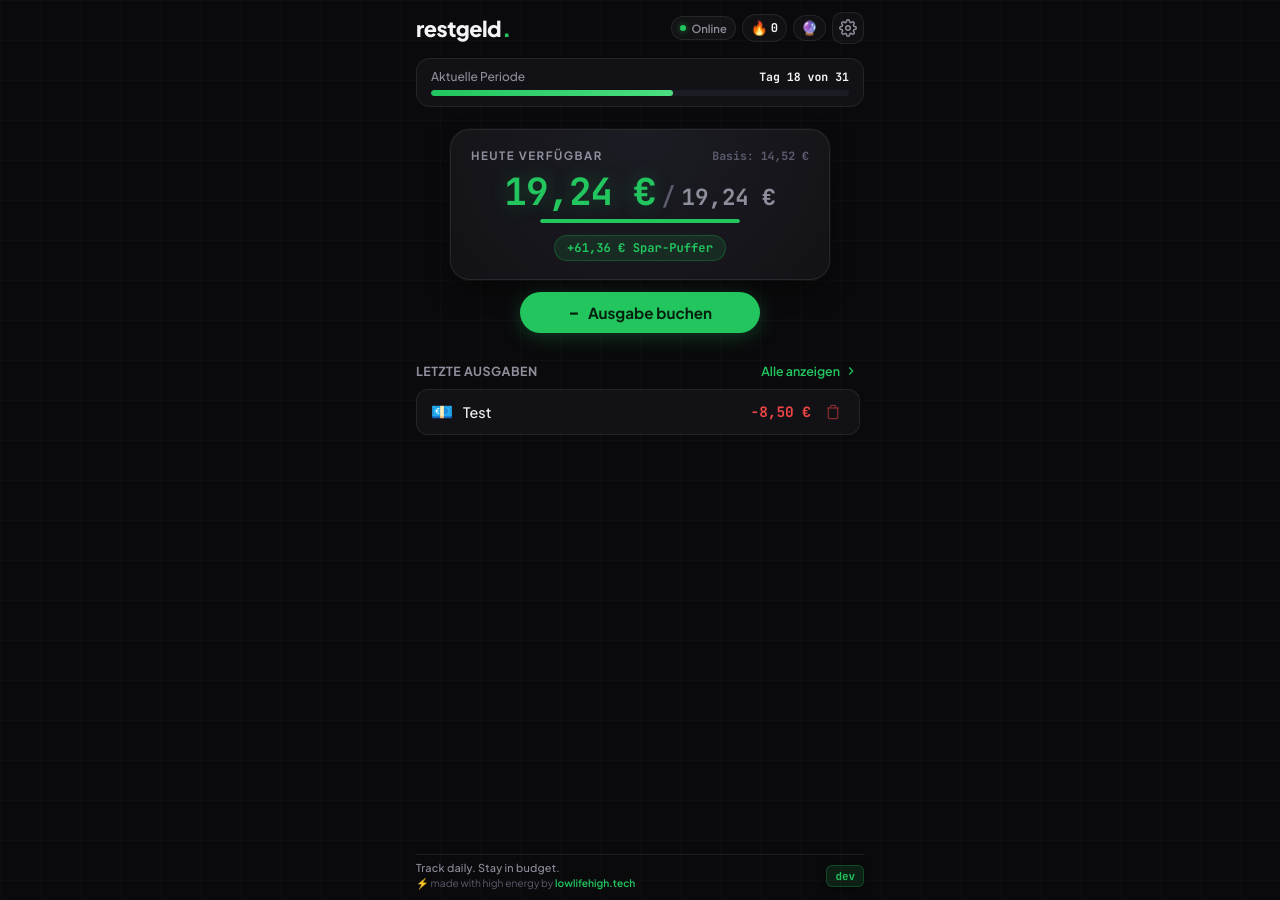
Test case: App › oeffnet ausgaben-historie modal bei klick auf alle anzeigen
This screenshot has width=1280, height=900.
Click the button with class "show-all-btn" at point(810, 371), box [755,361,864,381]
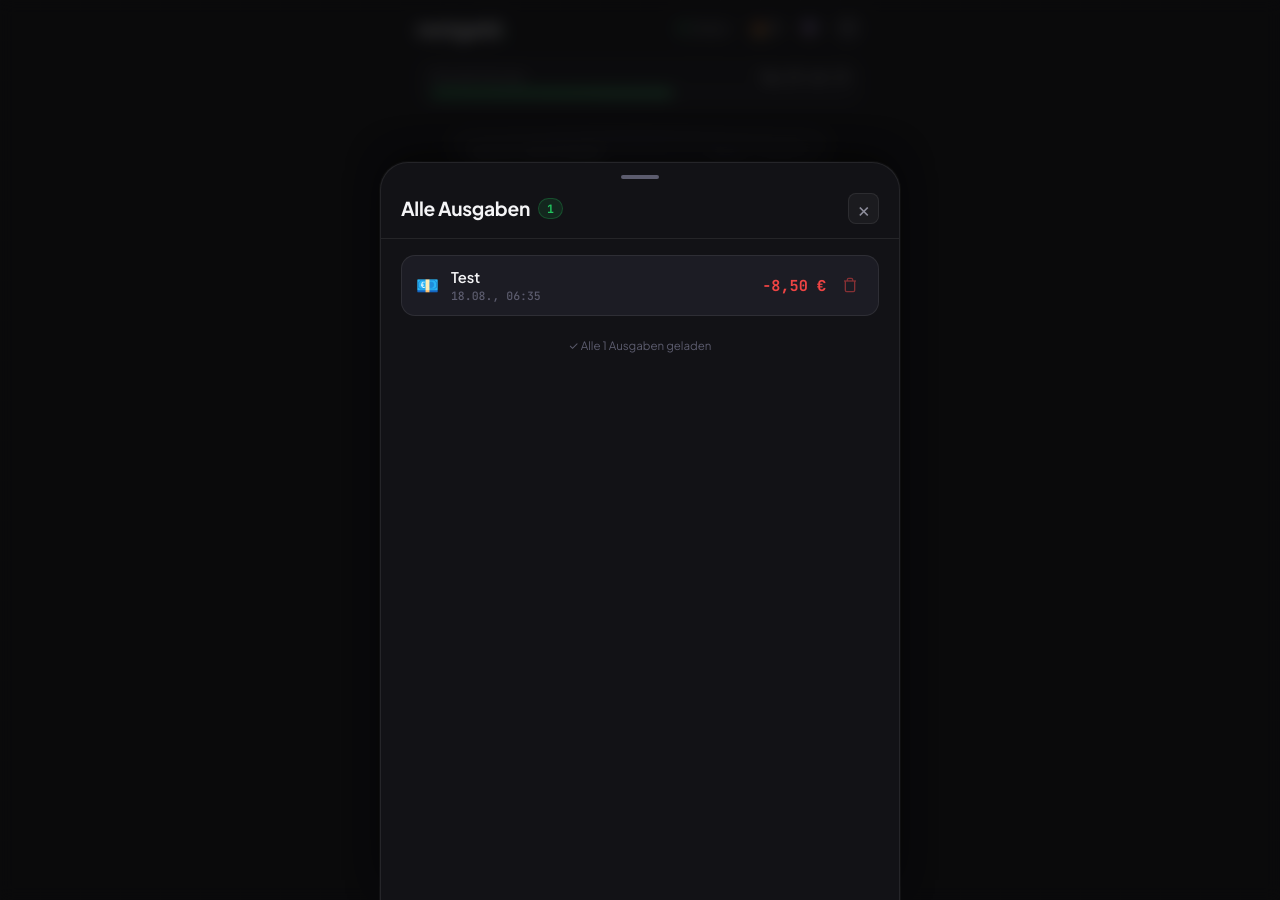
Expected: the heading "Alle Ausgaben" is shown, [401,196,530,220]
